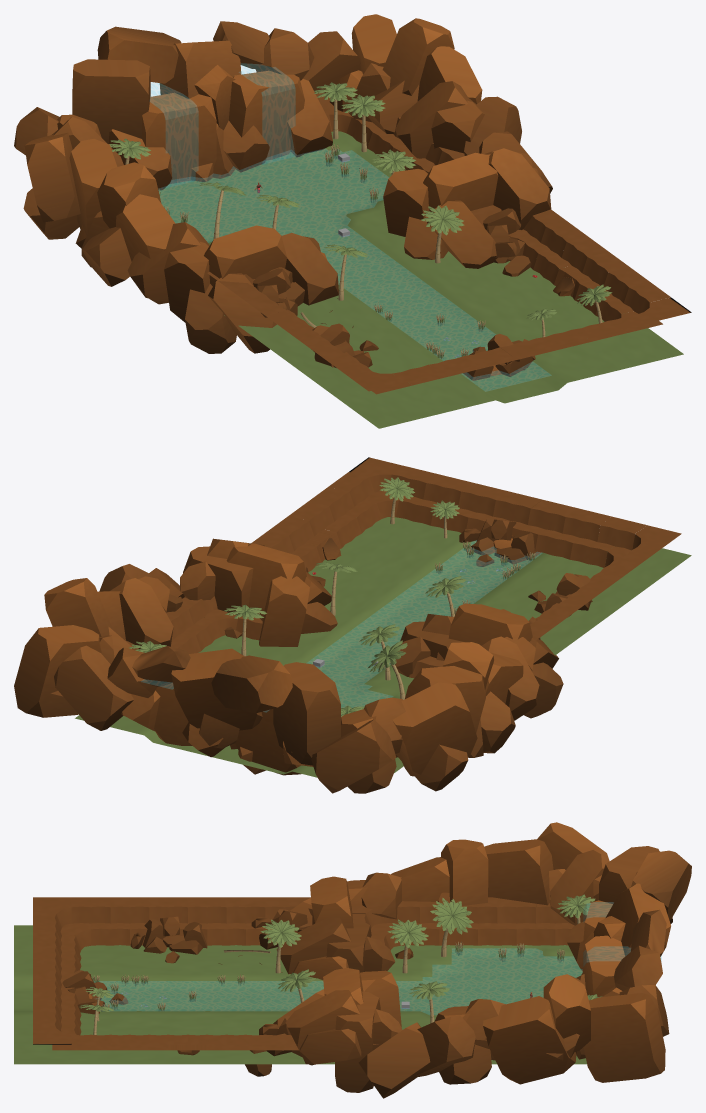
Rendered from Level_01.glb.
The picture shows the model from 3 angles, top to bottom: view 1: azimuth 30°, elevation 25°; view 2: azimuth 150°, elevation 25°; view 3: azimuth 270°, elevation 25°; orthographic projection. The views are drawn at different scales.
Visible parts, largest first — view 1: FLoor_Geo, BigRocks_INV002, BigRocks_INV, BigRocks_INV001, Water_Geo, CliffWall_INV, BigRocks_INV003, WaterFalls_INV, PalmTree_INV007, PalmTree_INV001, PalmTree_INV, Reed_INV (+1 smaller); view 2: BigRocks_INV002, FLoor_Geo, CliffWall_INV, BigRocks_INV001, BigRocks_INV, BigRocks_INV003, Water_Geo, PalmTree_INV004, PalmTree_INV008, PalmTree_INV003, PalmTree_INV005, PalmTree_INV006; view 3: FLoor_Geo, BigRocks_INV002, CliffWall_INV, BigRocks_INV001, Water_Geo, BigRocks_INV, BigRocks_INV003, PalmTree_INV004, WaterFalls_INV, PalmTree_INV005, PalmTree_INV006, PalmTree_INV002 (+2 smaller).
Part boxes in pixels (x1,y1,x2,y2): FLoor_Geo: (158,131,683,428); BigRocks_INV002: (72,14,552,317); BigRocks_INV: (108,65,535,380); BigRocks_INV001: (23,139,551,367); Water_Geo: (158,149,551,391); CliffWall_INV: (207,93,691,394); BigRocks_INV003: (14,107,531,276); WaterFalls_INV: (150,63,295,187); PalmTree_INV007: (421,205,464,263); PalmTree_INV001: (341,94,385,152); PalmTree_INV: (314,82,357,139); Reed_INV: (158,143,378,222); BigRocks_INV002: (14,564,540,765); FLoor_Geo: (75,517,691,777); CliffWall_INV: (51,457,681,752); BigRocks_INV001: (180,538,592,791); BigRocks_INV: (121,518,540,775); BigRocks_INV003: (224,566,477,793); Water_Geo: (307,540,541,707); PalmTree_INV004: (368,640,407,699); PalmTree_INV008: (379,477,414,524); PalmTree_INV003: (224,604,266,656); PalmTree_INV005: (359,624,400,680); PalmTree_INV006: (425,576,465,616); FLoor_Geo: (14,925,586,1064); BigRocks_INV002: (251,846,691,1098); CliffWall_INV: (33,897,574,1050); BigRocks_INV001: (130,839,565,1092); Water_Geo: (94,948,582,1014); BigRocks_INV: (62,900,625,1027); BigRocks_INV003: (245,822,672,1076); PalmTree_INV004: (430,898,473,957); WaterFalls_INV: (583,902,661,966); PalmTree_INV005: (387,919,428,973); PalmTree_INV006: (260,919,301,973); PalmTree_INV002: (557,894,595,924).
Size of the model in its own units: 2.43 by 0.8779 by 3.51.
7 materials, 4 textured.
